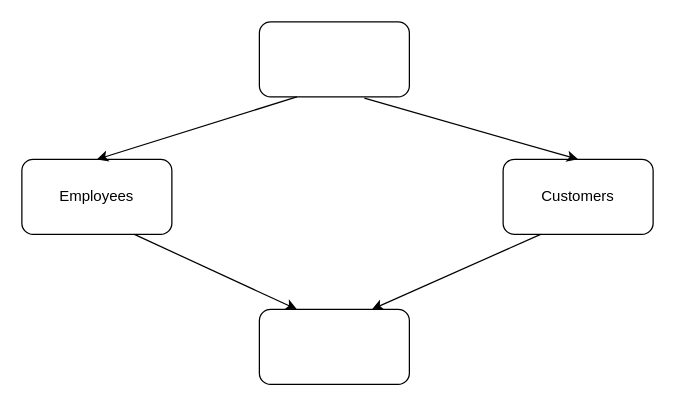
Image size: 675x406. Some labels were removed from this diagram. The shapes that lost their labels are listed below. From the top down, each one's centre as x and y in pixels, then its label:
point 333,59: main
point 333,346: API
